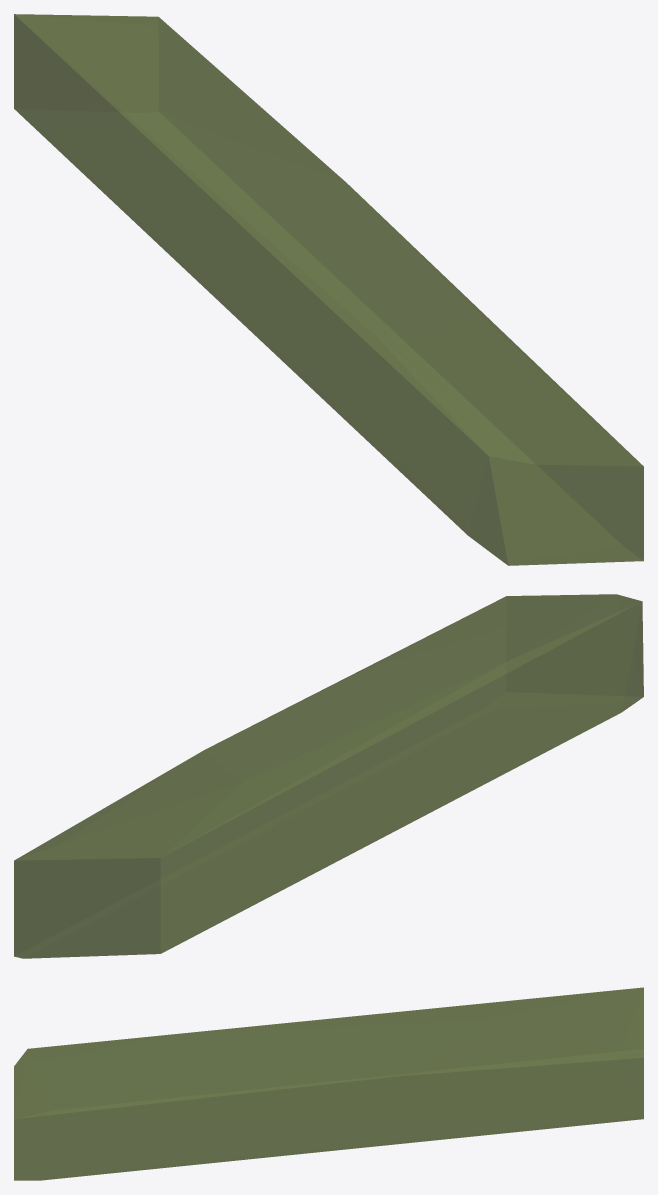
3 views of the same model, one above another, from view 1: azimuth 30°, elevation 25°; view 2: azimuth 150°, elevation 25°; view 3: azimuth 270°, elevation 25° (orthographic). The views are drawn at different scales.
Parts seen in each view (by area): view 1: Shape_IndexedFaceSet.020_Shape_IndexedFaceSet.7626; view 2: Shape_IndexedFaceSet.020_Shape_IndexedFaceSet.7626; view 3: Shape_IndexedFaceSet.020_Shape_IndexedFaceSet.7626.
Boxes of the visible parts, x1=… form: Shape_IndexedFaceSet.020_Shape_IndexedFaceSet.7626: x1=14, y1=14, x2=643, y2=565; Shape_IndexedFaceSet.020_Shape_IndexedFaceSet.7626: x1=14, y1=594, x2=643, y2=958; Shape_IndexedFaceSet.020_Shape_IndexedFaceSet.7626: x1=14, y1=987, x2=643, y2=1180.
Size of the model in its own units: 0.0327 by 0.0491 by 0.1901.
